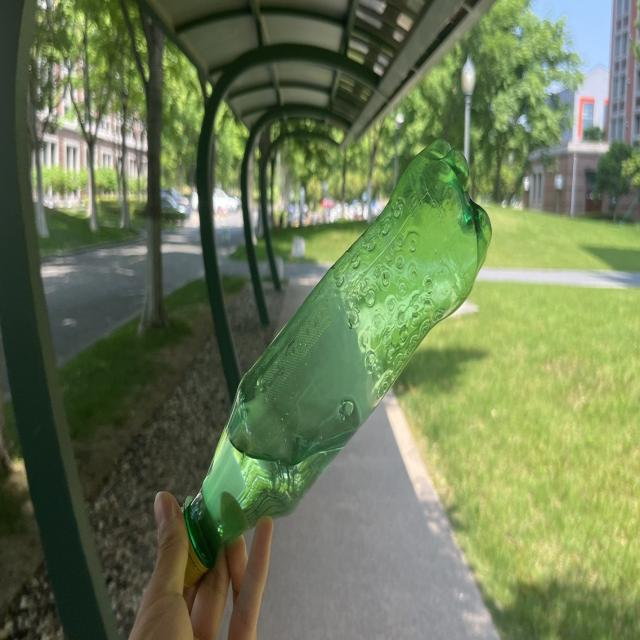low: (184, 140, 491, 585)
